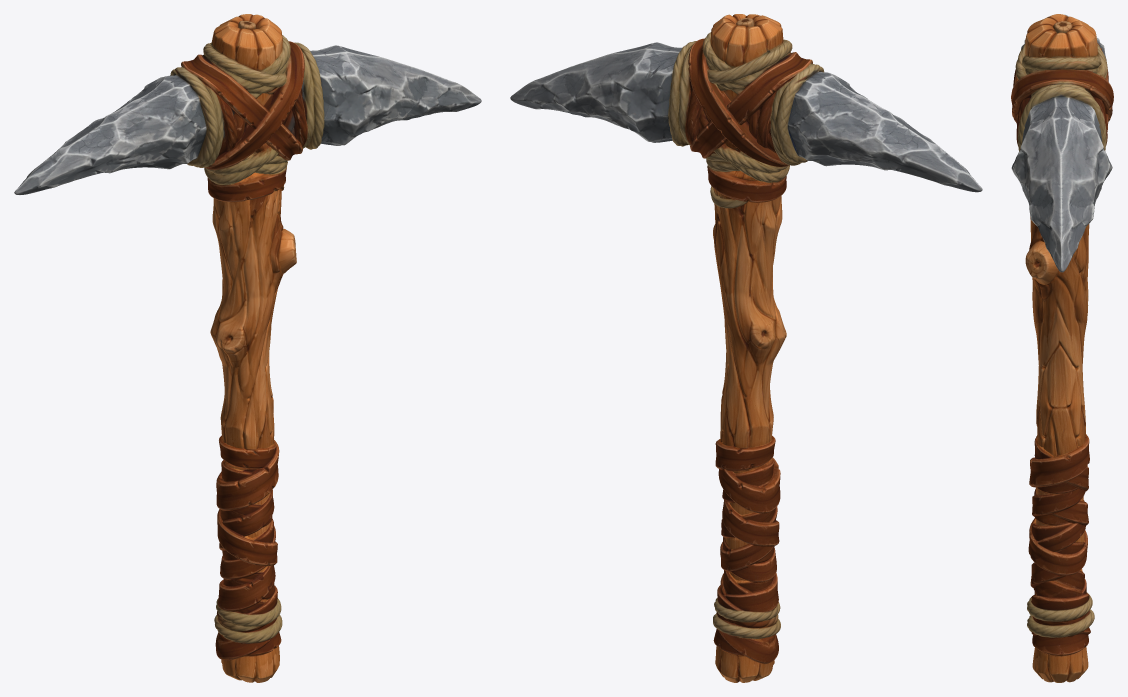
The model's file is Spitzhacke.glb.
3 renders of one model, left to right at view 1: azimuth 30°, elevation 25°; view 2: azimuth 150°, elevation 25°; view 3: azimuth 270°, elevation 25°, orthographic.
Size of the model in its own units: 1.41 by 1.89 by 0.2708.
1 material, 1 textured.
